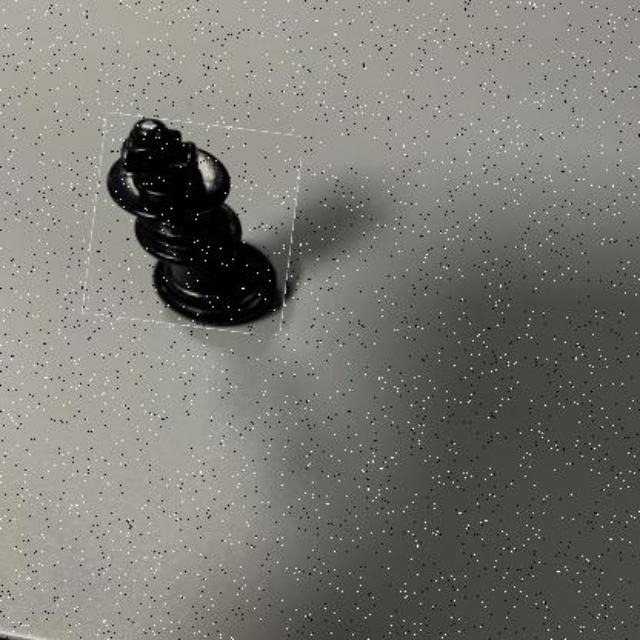black-king: (88, 118, 297, 330)
